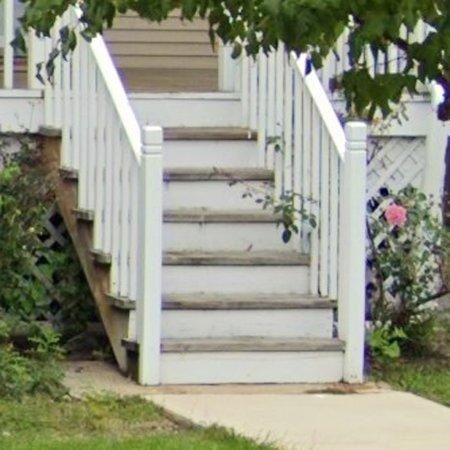stairs: (50, 36, 345, 385)
